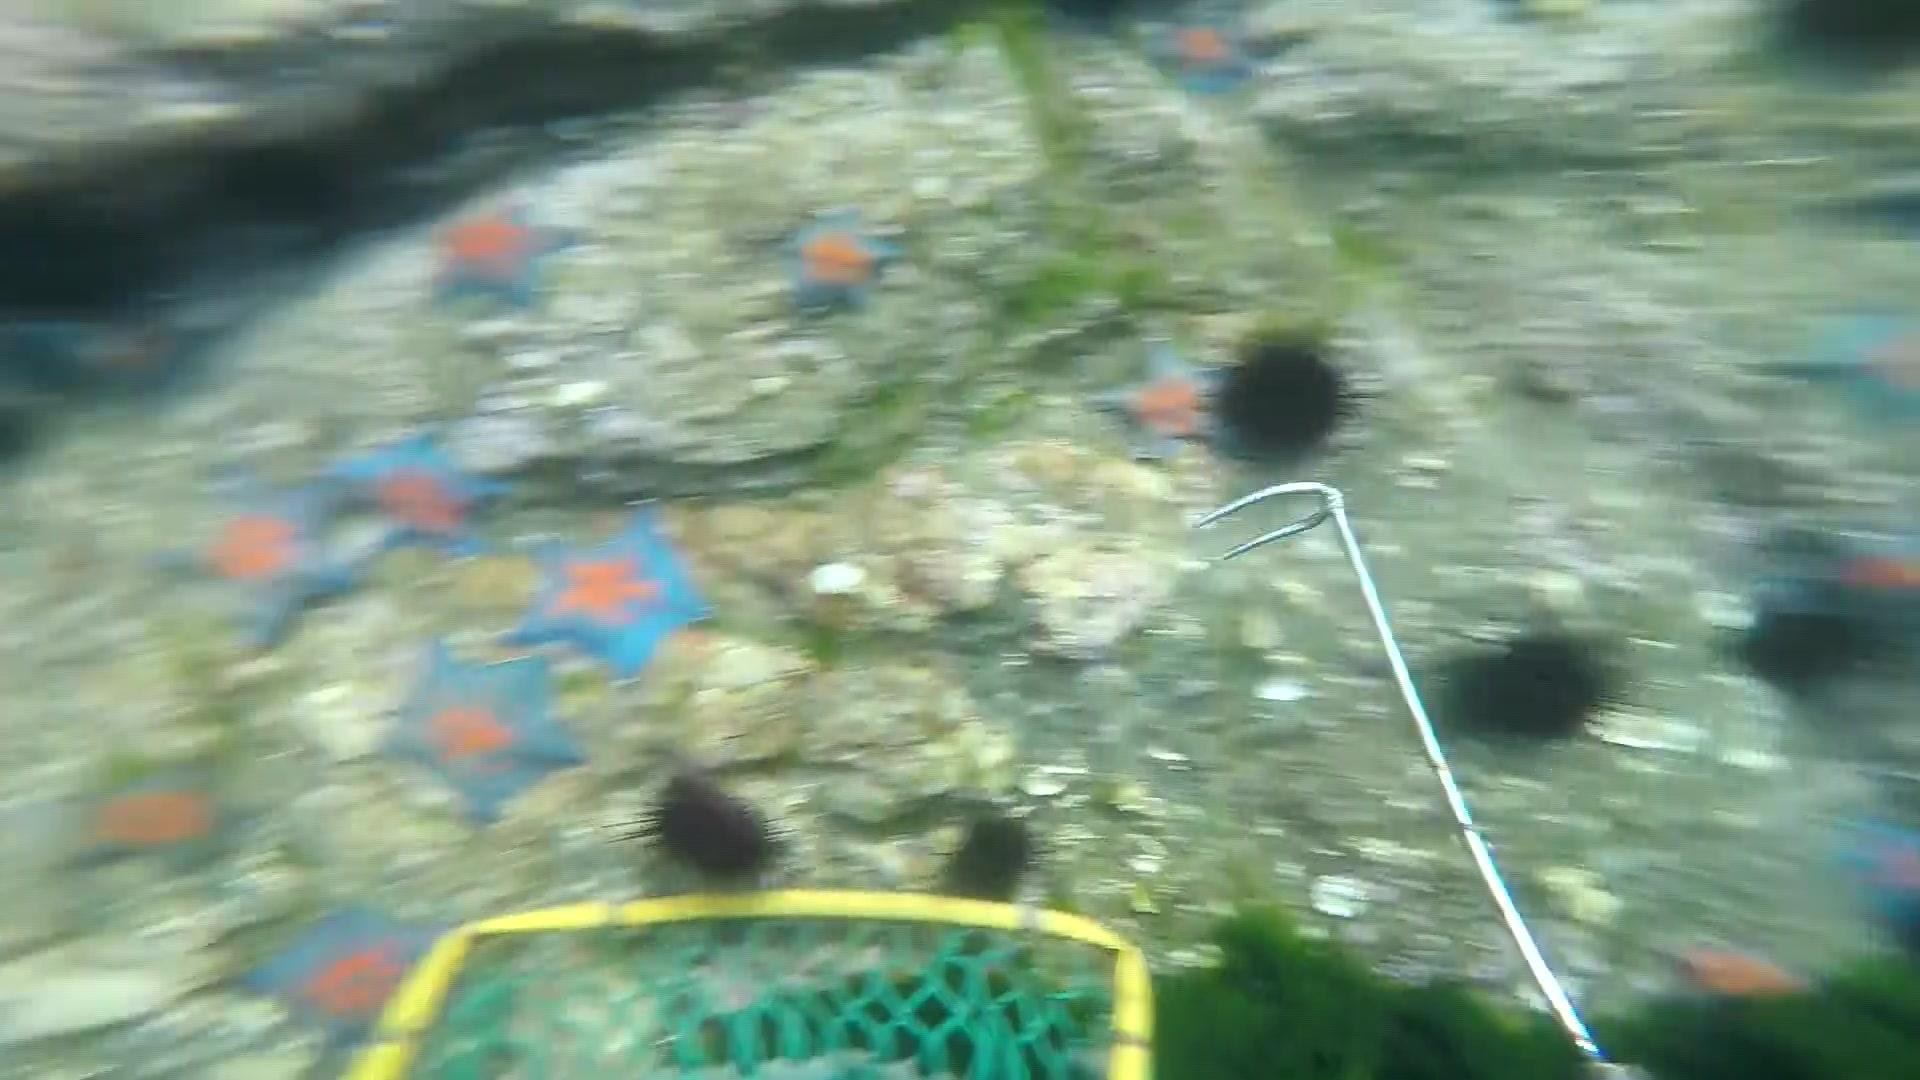echinus: (1197, 339, 1400, 465), (1, 181, 165, 332), (599, 770, 799, 887), (1474, 621, 1633, 748), (216, 136, 349, 237), (1738, 603, 1873, 702), (1770, 1, 1920, 87), (934, 811, 1058, 903)
starfish: (485, 501, 735, 696), (372, 630, 599, 829), (148, 462, 372, 662), (50, 735, 315, 890), (233, 901, 465, 1059), (328, 425, 509, 568), (417, 198, 588, 311), (1091, 338, 1240, 462), (1805, 517, 1920, 651), (1816, 295, 1920, 442), (779, 199, 902, 316), (1133, 1, 1269, 103), (1830, 808, 1920, 948)
